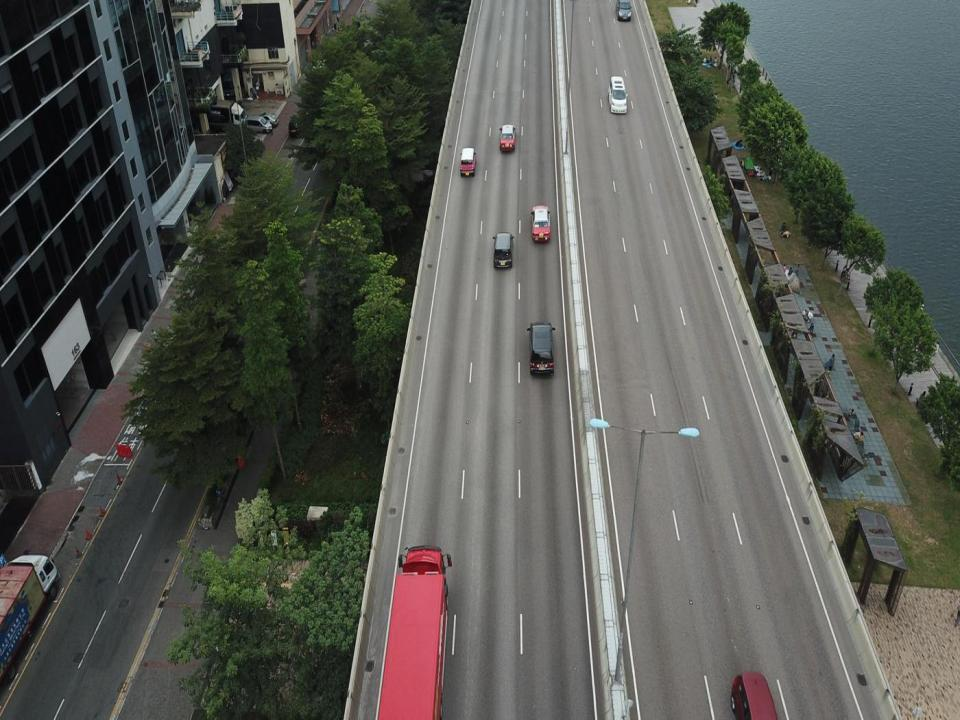car: (731, 668, 780, 719), (528, 319, 558, 377), (491, 230, 515, 270), (530, 204, 552, 244), (607, 73, 627, 114), (458, 146, 476, 178), (498, 123, 517, 152), (616, 0, 632, 21)
truck: (369, 545, 454, 719), (0, 550, 60, 693), (204, 99, 247, 128)
van: (244, 112, 272, 134), (255, 109, 278, 130)
